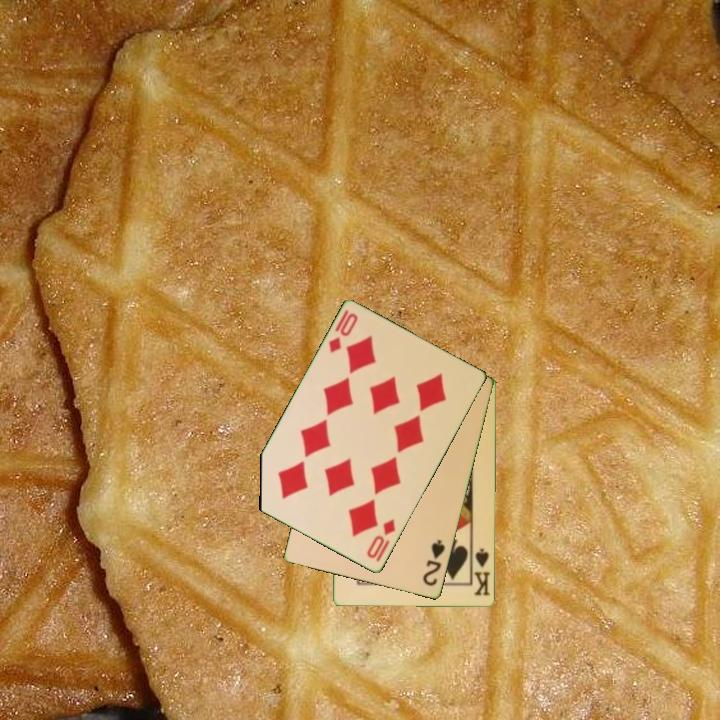10d: (363, 515, 399, 562), (325, 310, 361, 356)
2s: (419, 536, 448, 589)
Ks: (471, 545, 493, 599)
